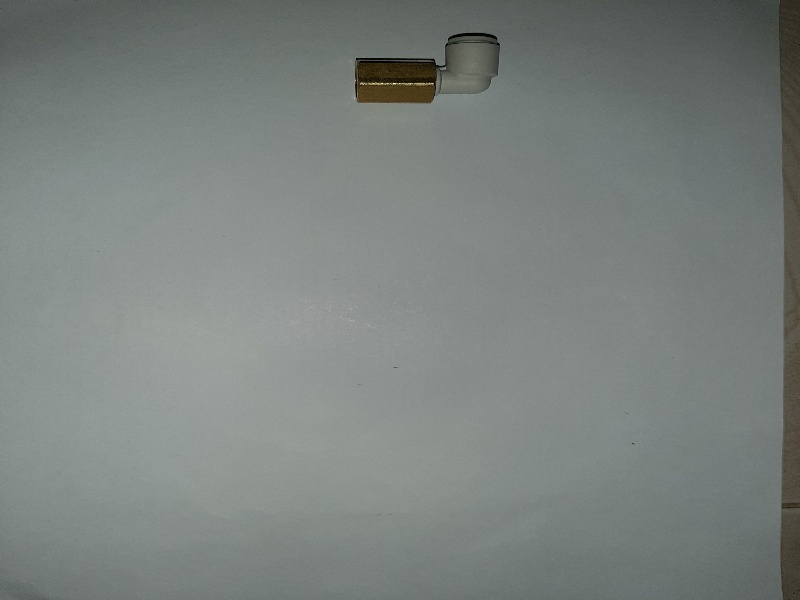Connector: (350, 20, 501, 106)
